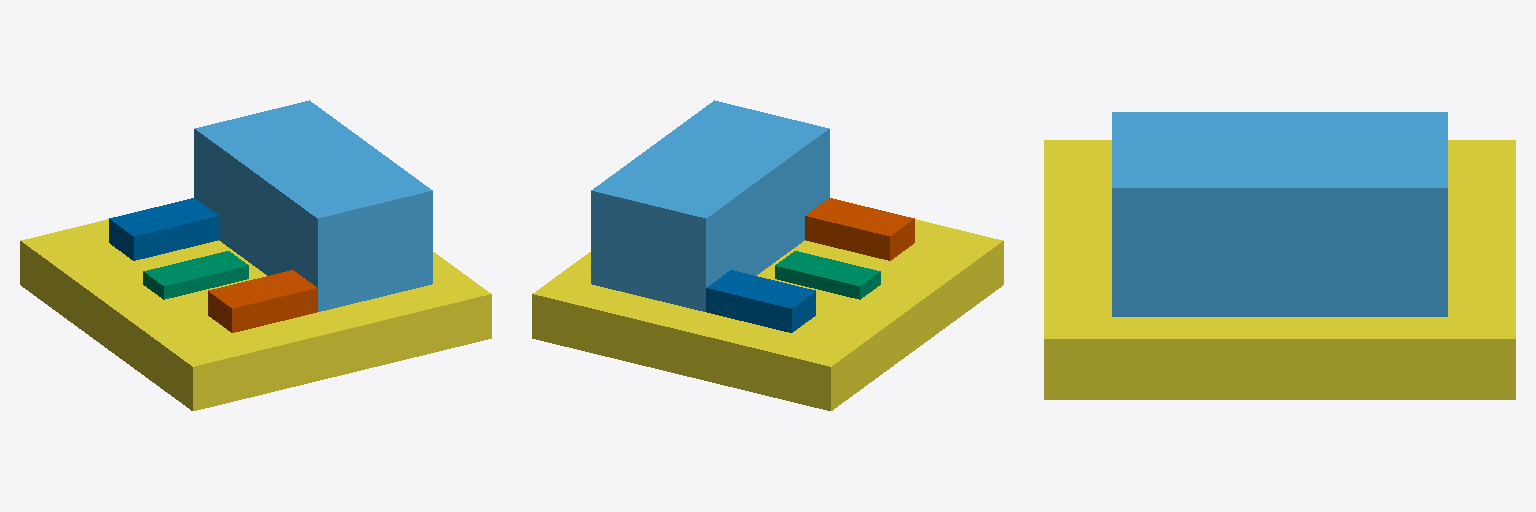
The robot description file, URDF, robot "kingpin":
<?xml version="1.0"?>
<robot name="kingpin" xmlns:xacro="http://wiki.ros.org/xacro">
<link name="world"/>

<link name="u_profile">
  <visual>
    <origin xyz="0 0 0" rpy="0 0 0"/>
    <geometry>
      <box size="0.27 0.5 0.21"/>
    </geometry>
    <material name="green"/>
  </visual>
  <collision>
    <origin xyz="0 0 0" rpy="0 0 0"/>
    <geometry>
      <box size="0.27 0.5 0.21"/>
    </geometry>
  </collision>
</link>
<joint name="world_to_u_profile" type="fixed">
  <parent link="world"/>
  <child link="u_profile"/>
  <origin xyz="0.985 0 0.105" rpy="0 0 0" />
</joint>
<link name="obstacle">
  <visual>
    <origin xyz="0 0 0" rpy="0 0 0"/>
    <geometry>
      <box size="0.2 0.0833333333333 0.03"/>
    </geometry>
    <material name="green"/>
  </visual>
  <collision>
    <origin xyz="0 0 0" rpy="0 0 0"/>
    <geometry>
      <box size="0.2 0.0833333333333 0.03"/>
    </geometry>
  </collision>
</link>
<joint name="world_to_obstacle" type="fixed">
  <parent link="world"/>
  <child link="obstacle"/>
  <origin xyz="0.71 0 0.015" rpy="0 0 0" />
</joint>
<link name="table">
  <visual>
    <origin xyz="0 0 0" rpy="0 0 0"/>
    <geometry>
      <box size="0.7 0.7 0.1"/>
    </geometry>
    <material name="green"/>
  </visual>
  <collision>
    <origin xyz="0 0 0" rpy="0 0 0"/>
    <geometry>
      <box size="0.7 0.7 0.1"/>
    </geometry>
  </collision>
</link>
<joint name="world_to_table" type="fixed">
  <parent link="world"/>
  <child link="table"/>
  <origin xyz="0.85 0 -0.05" rpy="0 0 0" />
</joint>
<link name="side_1">
  <visual>
    <origin xyz="0 0 0" rpy="0 0 0"/>
    <geometry>
      <box size="0.2 0.1 0.055"/>
    </geometry>
    <material name="green"/>
  </visual>
  <collision>
    <origin xyz="0 0 0" rpy="0 0 0"/>
    <geometry>
      <box size="0.2 0.1 0.055"/>
    </geometry>
  </collision>
</link>
<joint name="world_to_side_1" type="fixed">
  <parent link="world"/>
  <child link="side_1"/>
  <origin xyz="0.75 0.2 0.0275" rpy="0 0 0" />
</joint>
<link name="side_2">
  <visual>
    <origin xyz="0 0 0" rpy="0 0 0"/>
    <geometry>
      <box size="0.2 0.1 0.055"/>
    </geometry>
    <material name="green"/>
  </visual>
  <collision>
    <origin xyz="0 0 0" rpy="0 0 0"/>
    <geometry>
      <box size="0.2 0.1 0.055"/>
    </geometry>
  </collision>
</link>
<joint name="world_to_side_2" type="fixed">
  <parent link="world"/>
  <child link="side_2"/>
  <origin xyz="0.75 -0.2 0.0275" rpy="0 0 0" />
</joint>

</robot>

--- Render facts (derived) ---
Views: 3 orthographic renders of the robot side by side, from view 1: azimuth 30°, elevation 25°; view 2: azimuth 150°, elevation 25°; view 3: azimuth 270°, elevation 25°.
Robot: kingpin — 6 links, 5 joints (5 fixed); root link world; default pose: all joints at 0.
Visible links, largest first — view 1: table, u_profile, side_2, side_1, obstacle; view 2: table, u_profile, side_1, side_2, obstacle; view 3: u_profile, table.
Boxes of the visible links, x1,y1,x2,y2 form: table: [20, 219, 491, 410]; u_profile: [194, 100, 432, 311]; side_2: [208, 270, 317, 332]; side_1: [109, 198, 218, 260]; obstacle: [143, 251, 248, 299]; table: [532, 219, 1003, 410]; u_profile: [591, 100, 829, 311]; side_1: [706, 270, 815, 332]; side_2: [805, 198, 914, 260]; obstacle: [775, 251, 880, 299]; u_profile: [1112, 112, 1447, 316]; table: [1044, 140, 1515, 399].
Size in the robot's own frame: 0.7 by 0.7 by 0.31 metres.
Geometry: primitives only (box / cylinder / sphere), no mesh files.